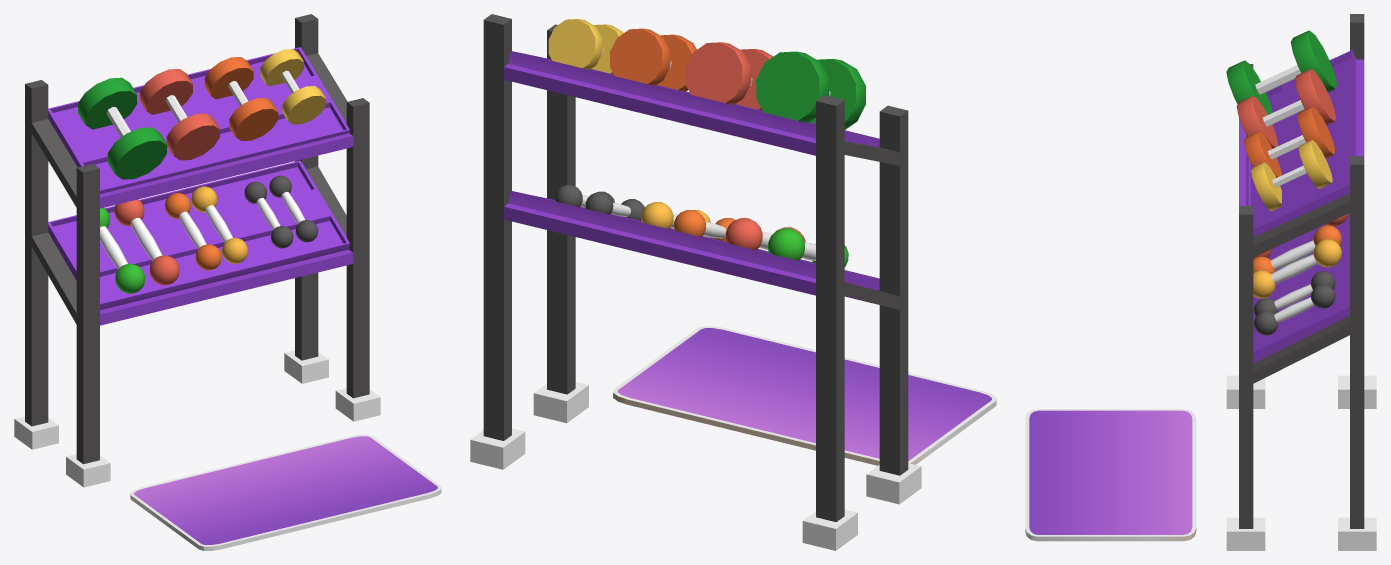
File: Mchn_4.fbx
3 renders of one model, left to right at view 1: azimuth 30°, elevation 25°; view 2: azimuth 150°, elevation 25°; view 3: azimuth 270°, elevation 25°, orthographic. The views are drawn at different scales.
Visible parts, largest first — view 1: Machn_4, Plane, Dumbbell.005, Dumbbell.006, Dumbbell.007, Dumbbell.008, Dumbbell, Dumbbell.001, Dumbbell.002, Dumbbell_1, Dumbbell.003, Dumbbell.004; view 2: Machn_4, Plane, Dumbbell.005, Dumbbell.006, Dumbbell.007, Dumbbell.008, Dumbbell_1, Dumbbell, Dumbbell.001, Dumbbell.003, Dumbbell.002; view 3: Machn_4, Plane, Dumbbell.005, Dumbbell.006, Dumbbell.007, Dumbbell.008, Dumbbell.002, Dumbbell.004, Dumbbell.001, Dumbbell.003.
Part boxes in pixels (x1,y1,x2,y2): Machn_4: (14,14,380,487); Plane: (130,434,441,550); Dumbbell.005: (78,77,166,179); Dumbbell.006: (140,69,219,160); Dumbbell.007: (204,57,278,140); Dumbbell.008: (260,49,326,124); Dumbbell: (114,199,179,285); Dumbbell.001: (165,192,221,270); Dumbbell.002: (191,186,248,263); Dumbbell_1: (100,208,145,293); Dumbbell.003: (244,181,293,248); Dumbbell.004: (269,175,318,242); Machn_4: (470,14,921,550); Plane: (613,326,996,465); Dumbbell.005: (756,51,865,129); Dumbbell.006: (685,42,773,110); Dumbbell.007: (610,28,696,91); Dumbbell.008: (548,19,623,74); Dumbbell_1: (768,228,848,266); Dumbbell: (725,218,805,250); Dumbbell.001: (674,210,735,241); Dumbbell.003: (585,192,644,221); Dumbbell.002: (641,202,710,236); Machn_4: (1226,14,1376,550); Plane: (1025,409,1196,541); Dumbbell.005: (1226,30,1336,114); Dumbbell.006: (1236,69,1335,148); Dumbbell.007: (1244,106,1334,177); Dumbbell.008: (1251,140,1332,211); Dumbbell.002: (1253,239,1341,298); Dumbbell.004: (1254,284,1335,335); Dumbbell.001: (1253,225,1341,273); Dumbbell.003: (1254,271,1335,316).
Bounding box in the file's own units: 117 × 140 × 112.
